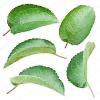Apple leaf: (2, 36, 60, 69), (10, 65, 67, 98), (64, 40, 97, 96), (5, 4, 61, 36), (58, 2, 96, 47)
